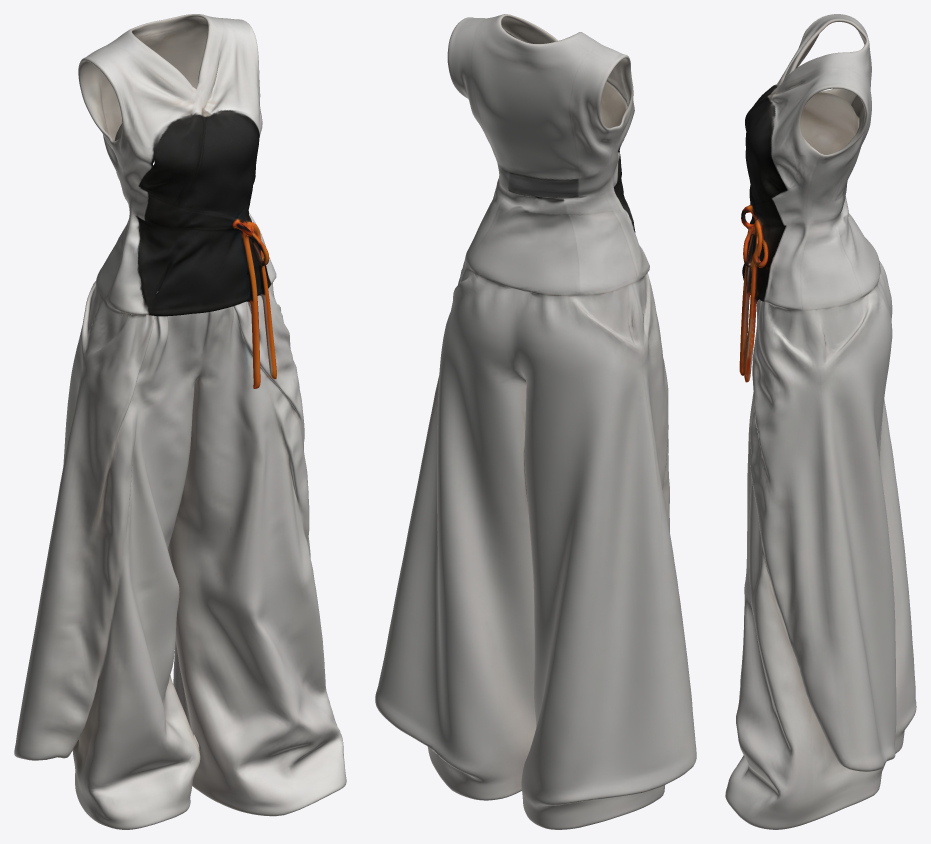
File: land_wear.glb
3 views of the same model, side by side, from view 1: azimuth 30°, elevation 25°; view 2: azimuth 150°, elevation 25°; view 3: azimuth 270°, elevation 25° (orthographic). The views are drawn at different scales.
Parts seen in each view (by area): view 1: tripo_node_4ba582a5; view 2: tripo_node_4ba582a5; view 3: tripo_node_4ba582a5.
Boxes of the visible parts, x1,y1,x2,y2 form: tripo_node_4ba582a5: [14, 14, 346, 829]; tripo_node_4ba582a5: [375, 14, 696, 829]; tripo_node_4ba582a5: [725, 14, 916, 829].
Bounding box in the file's own units: 40.75 × 97.79 × 23.15.
Materials: 1 (1 with a texture image).
